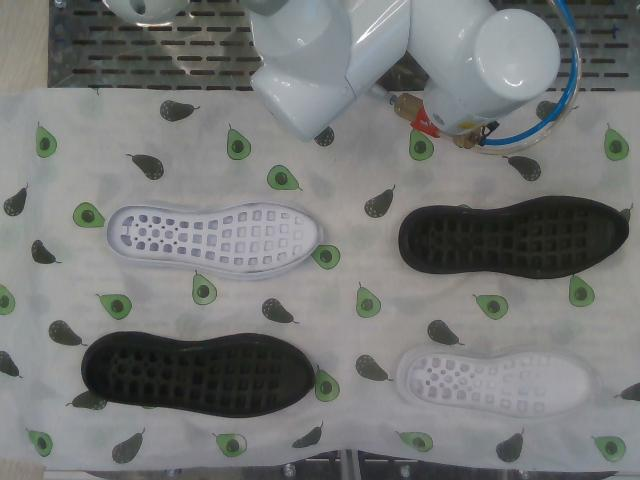shoes: (86, 343, 313, 415), (107, 203, 321, 274), (408, 203, 628, 271), (409, 354, 599, 419)
